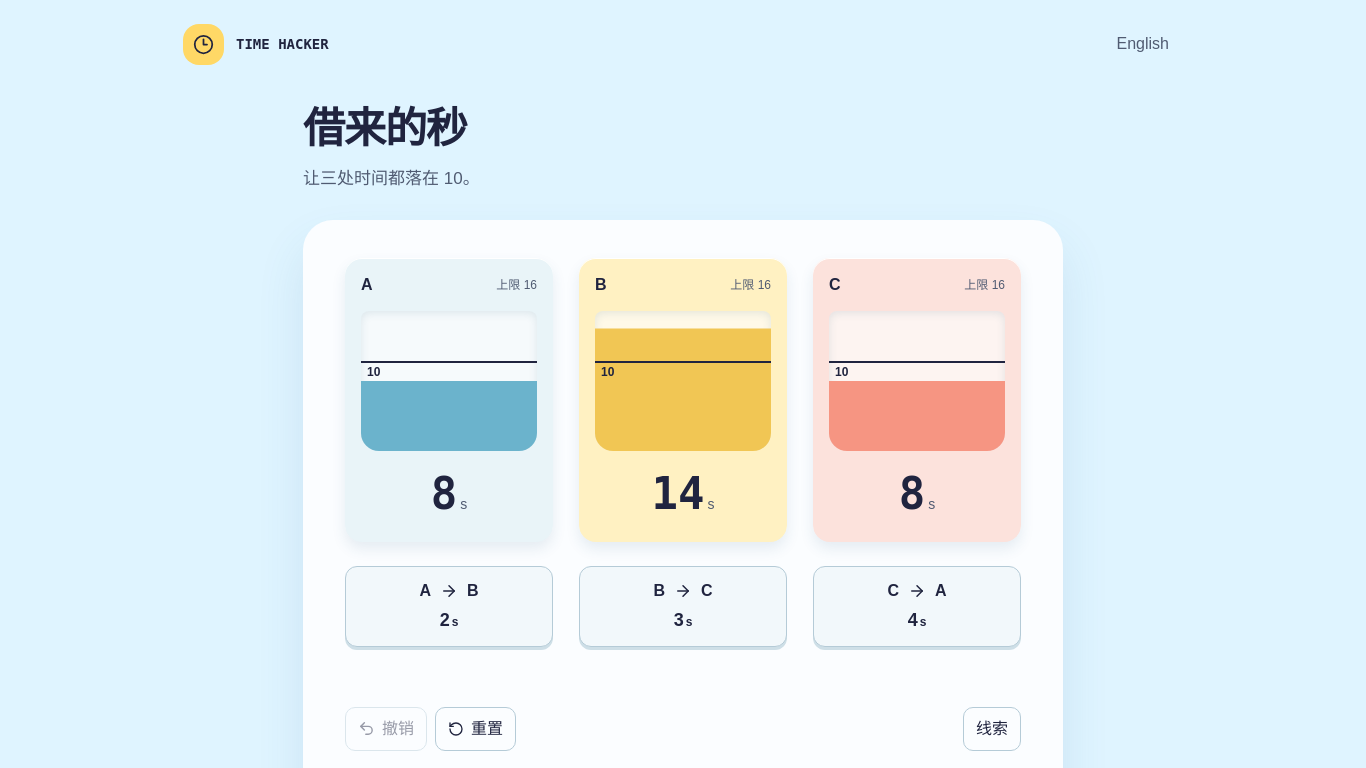
reasoning lab interaction contract › translates existing evidence when language changes
What coordinates should you click on to do the following:
click the button named "A → B · 2s"
I would click on:
 (449, 606)
Its box is [345,566,553,647].
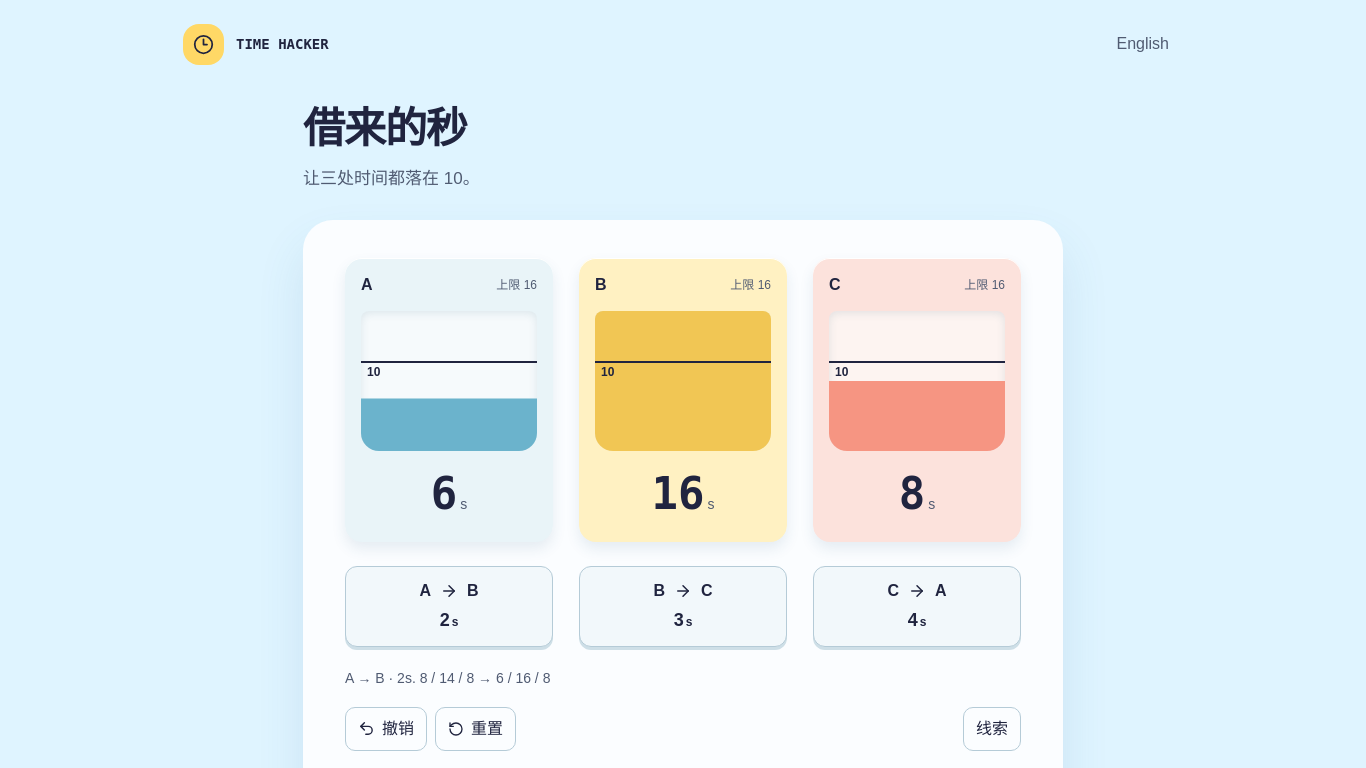
What coordinates should you click on to do the following:
click the button named "A → B · 2s"
I would click on:
 (449, 606)
Its box is [345,566,553,647].
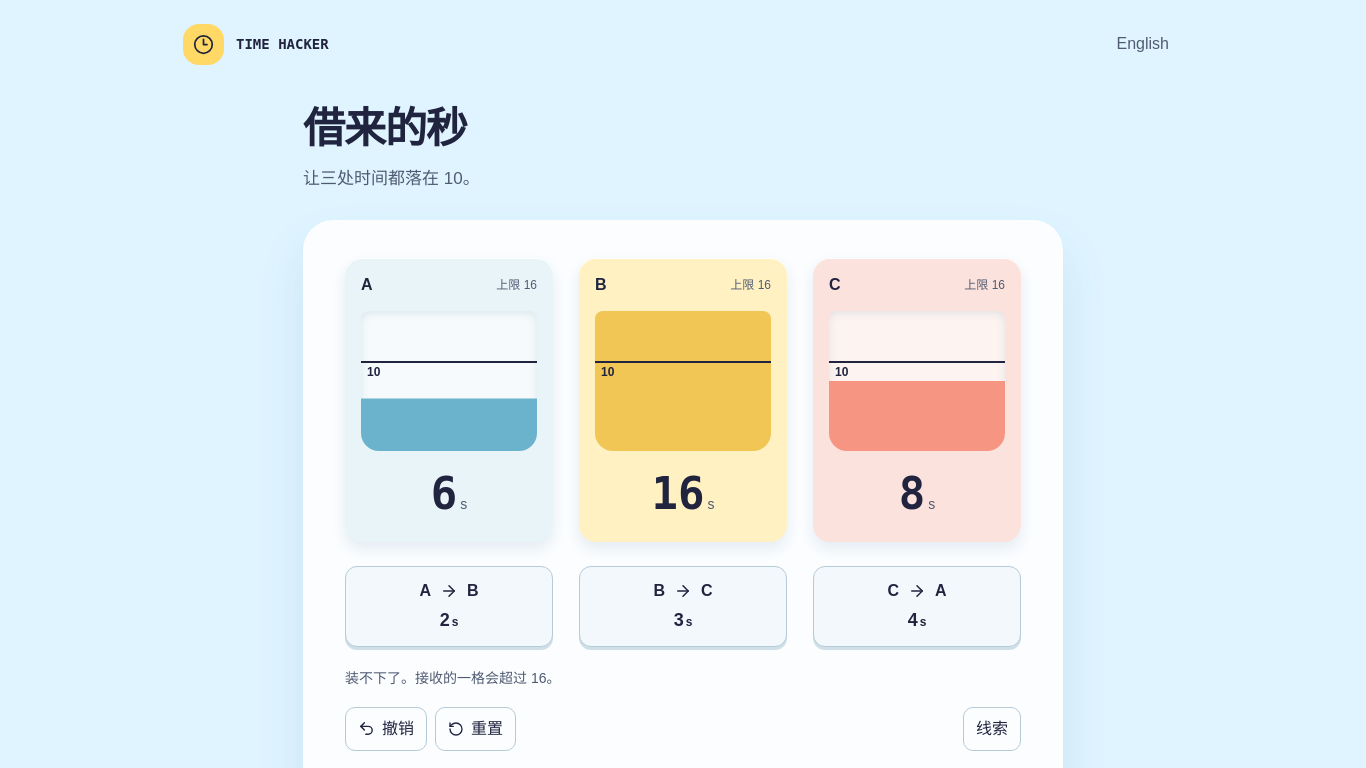
What coordinates should you click on to do the following:
click the button "English"
I would click on:
 (1143, 44)
Its box is [1102,22,1183,66].
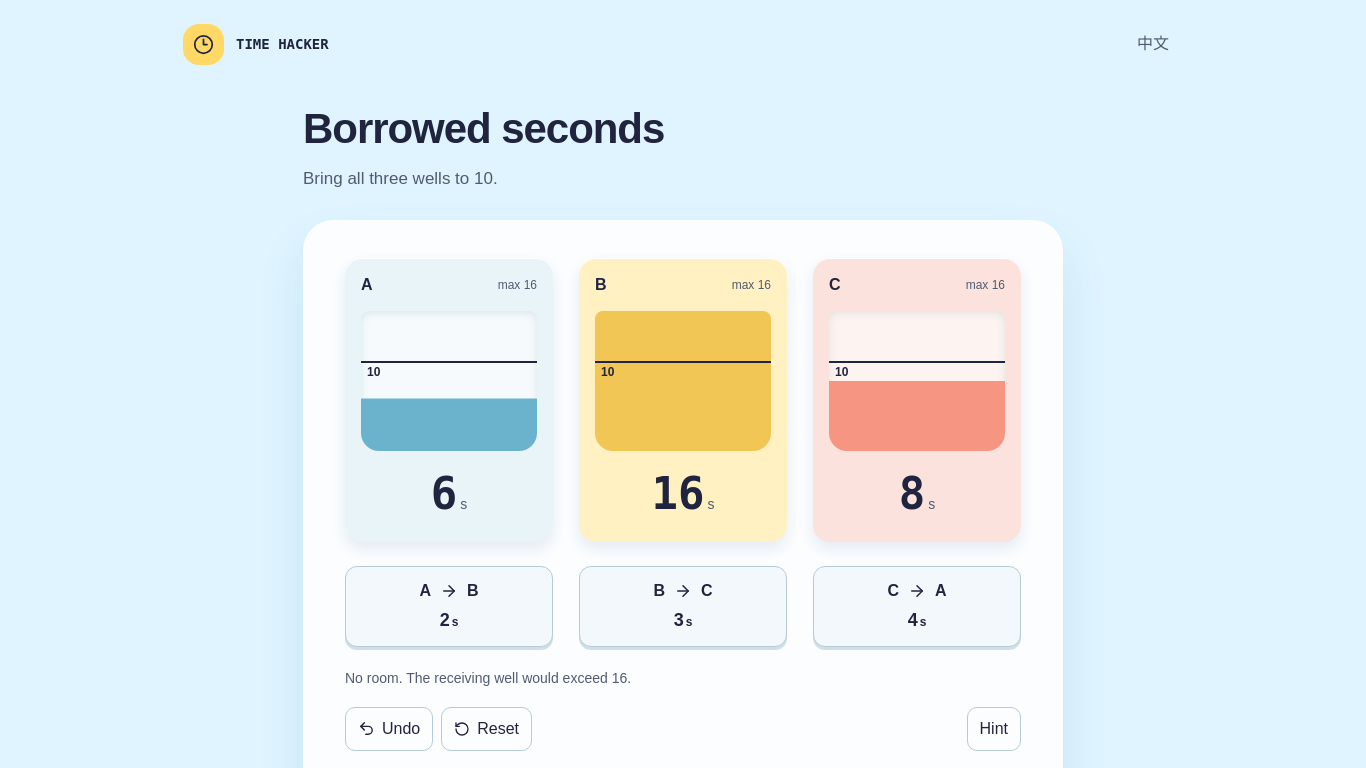
Now the text "No room. The receiving well would exceed 16." is shown, box [345,670,631,686]
Now the text "装不下了。接收的一格会超过 16。" is gone
